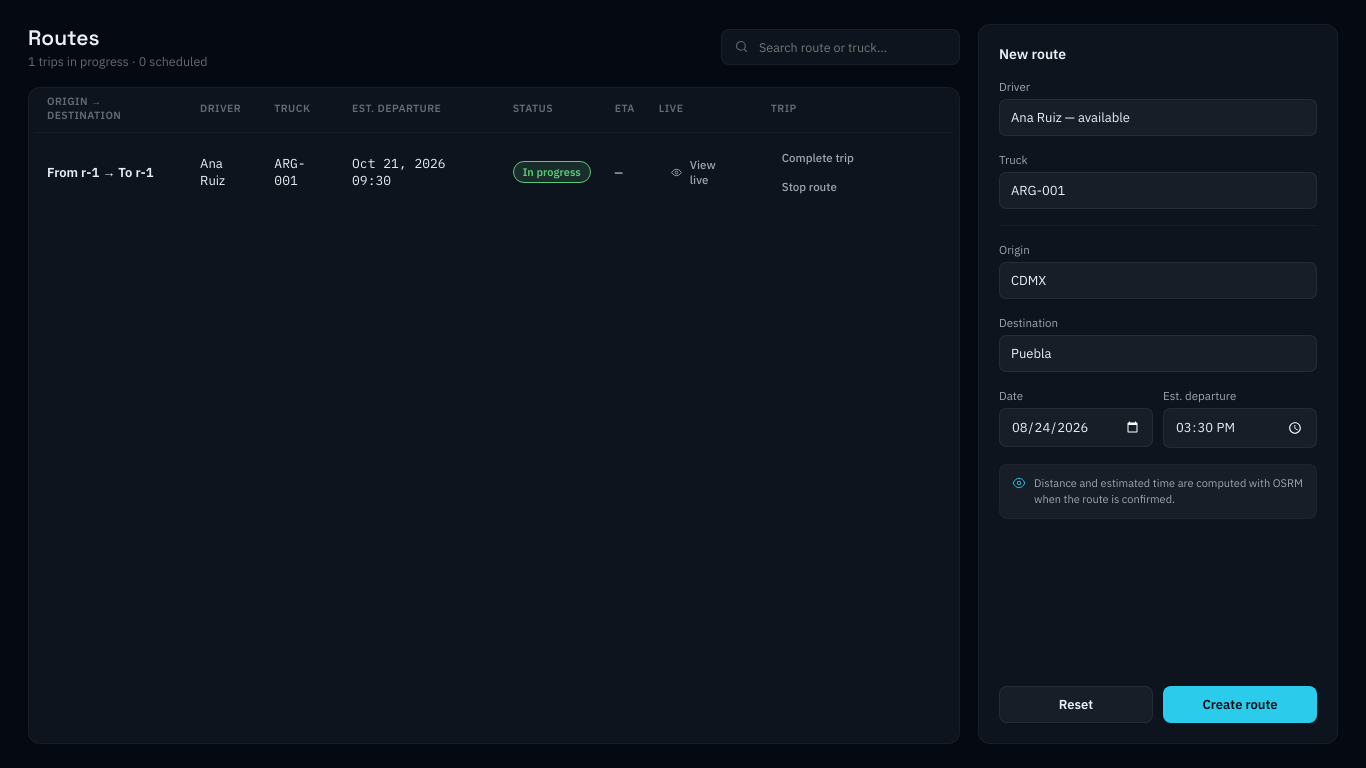
Test: TravelManagement trips › Stop route needs a reason, then POSTs /stop and the route reads "Stopped"
Click the button "Stop route".
click(809, 186)  # box top-left (771, 174), bottom-right (848, 199)
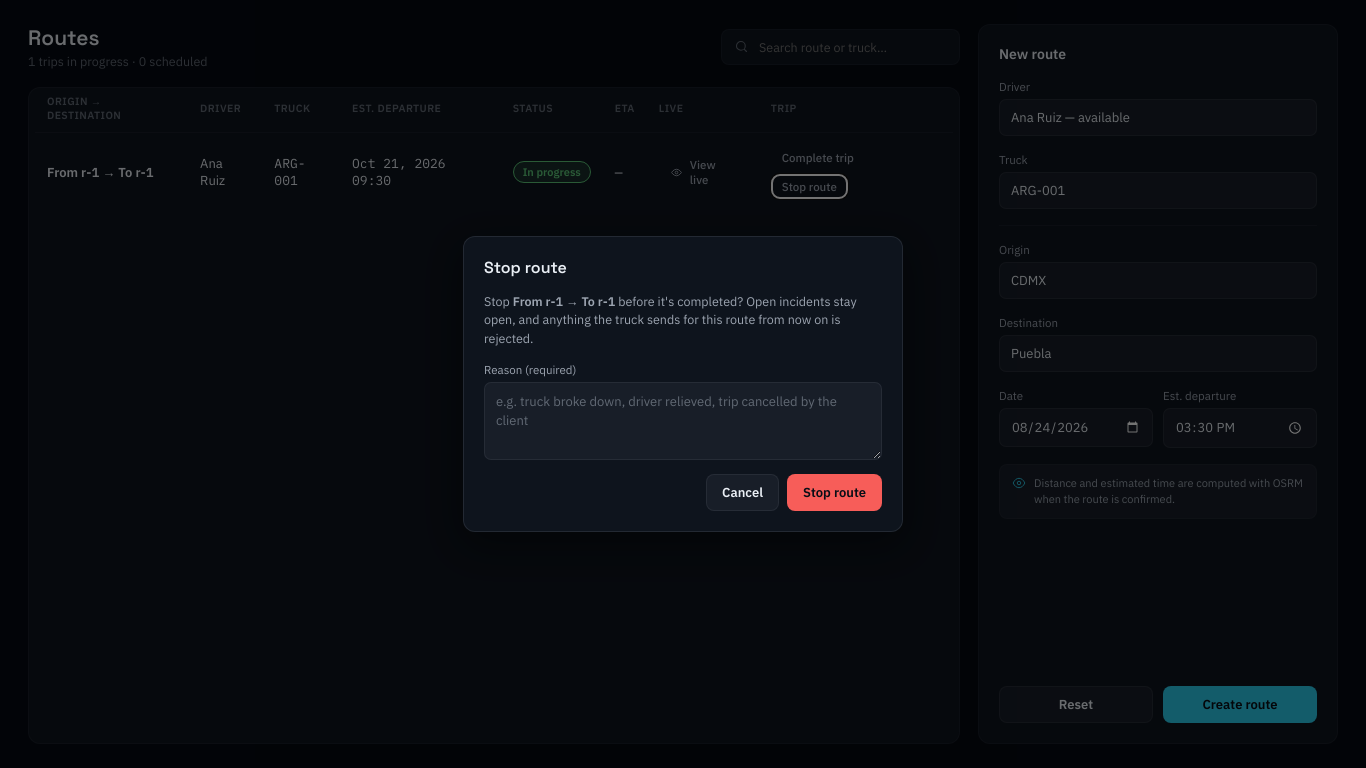
Click the button "Stop route".
click(834, 493)  # box top-left (787, 474), bottom-right (882, 511)
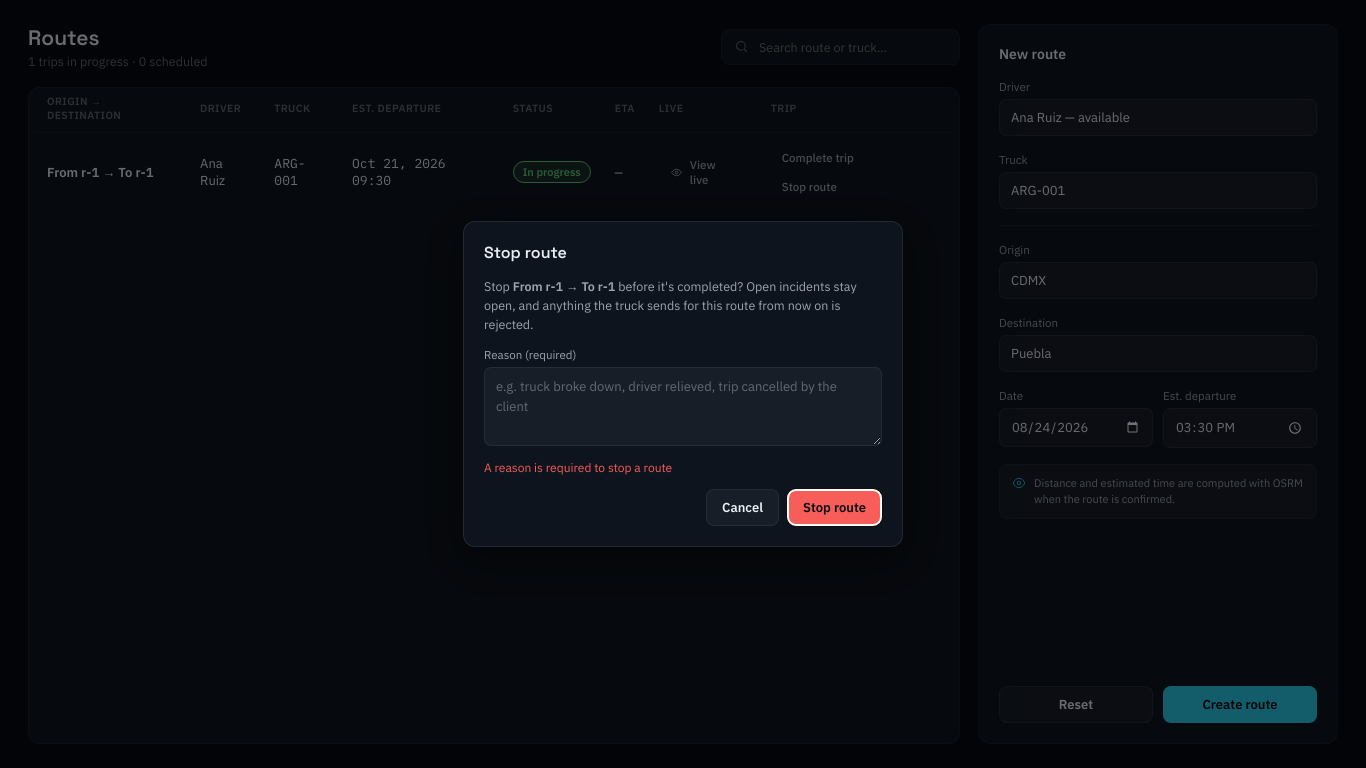
Expected: the message shows "A reason is required", top-left (484, 460), bottom-right (672, 475)
Type "Truck broke down near Celaya" into the text box.
click(683, 407); type("Truck broke down near Celaya")  # box top-left (484, 367), bottom-right (882, 446)
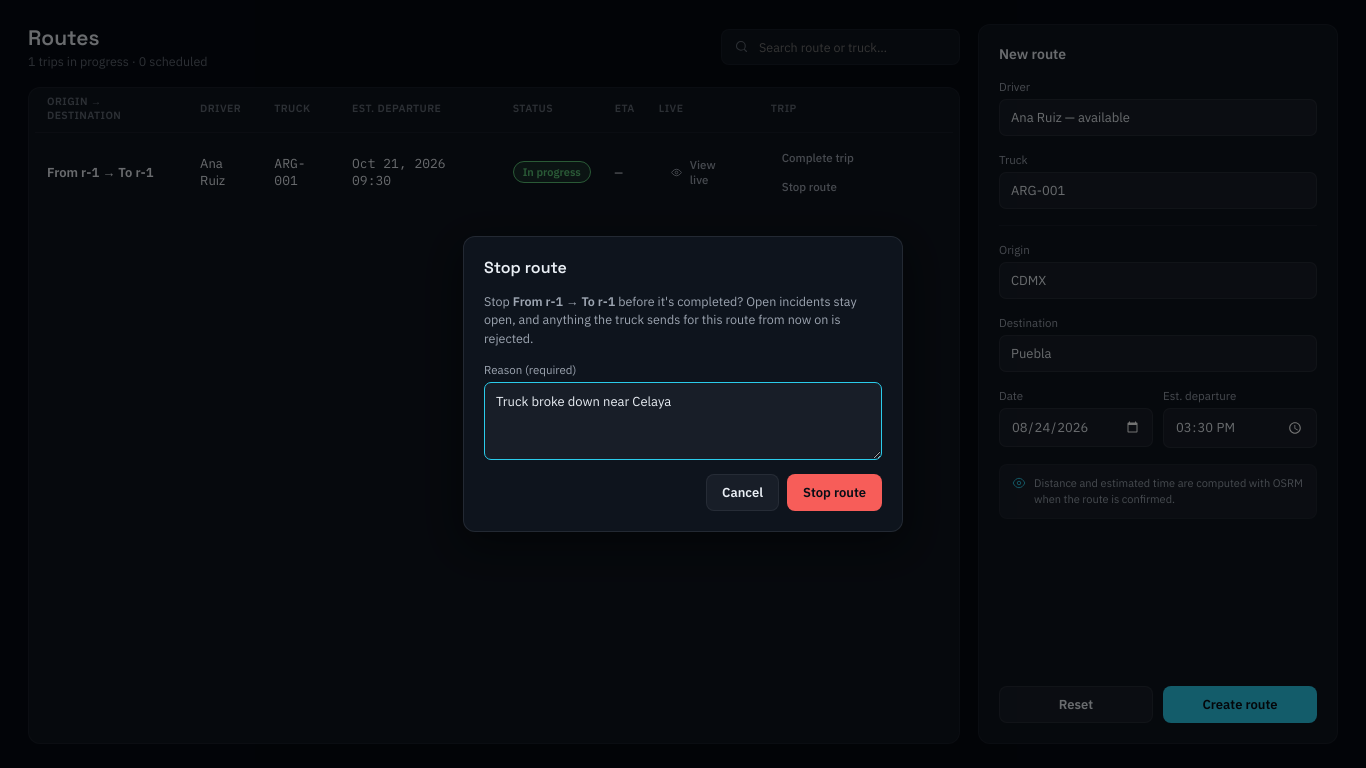
Click the button "Stop route".
click(834, 493)  # box top-left (787, 474), bottom-right (882, 511)
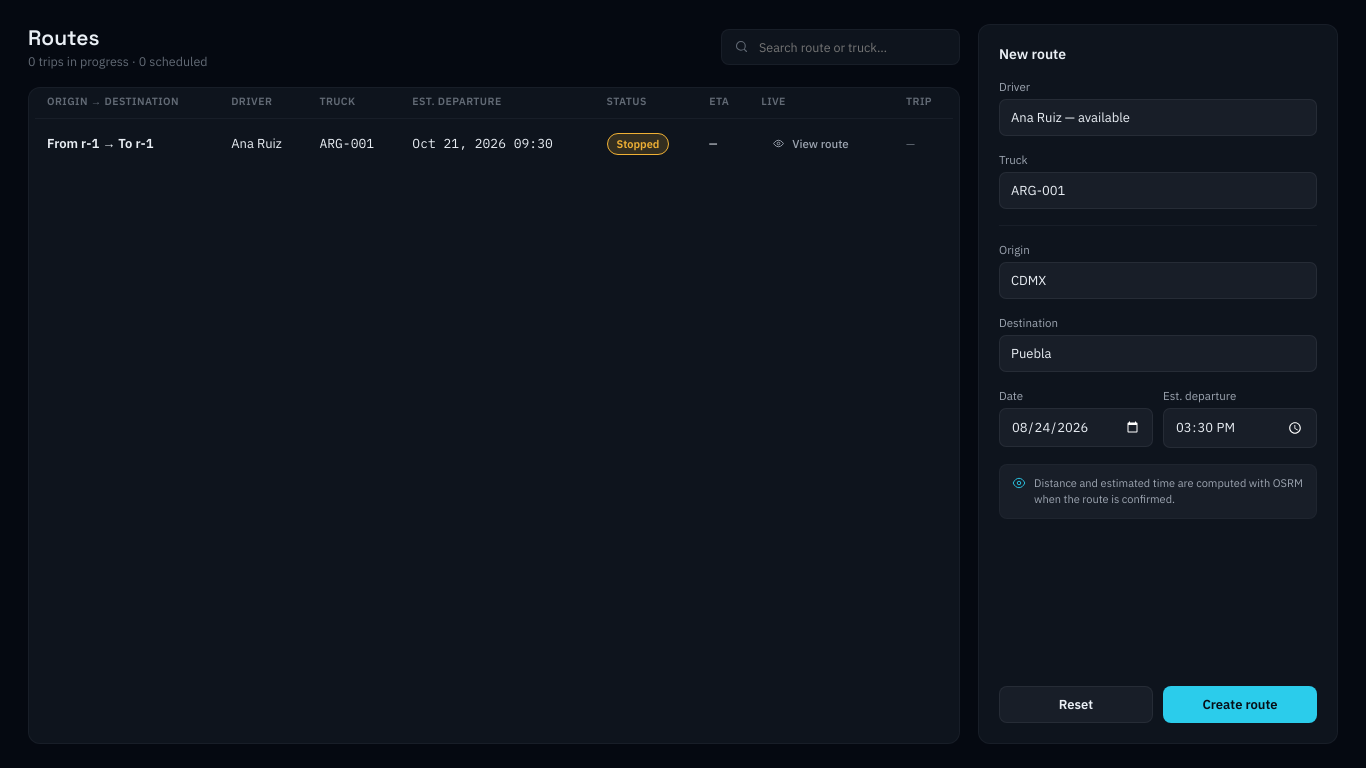
Expected: the text "Stopped" is shown, top-left (607, 132), bottom-right (670, 154)
Expected: the button "Stop route" is gone
Expected: the button "Complete trip" is gone
